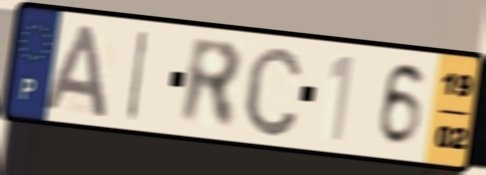1: (327, 54, 356, 144)
6: (375, 61, 428, 151)
A: (40, 21, 111, 121)
C: (240, 42, 306, 140)
I: (123, 27, 152, 124)
R: (178, 33, 245, 133)
